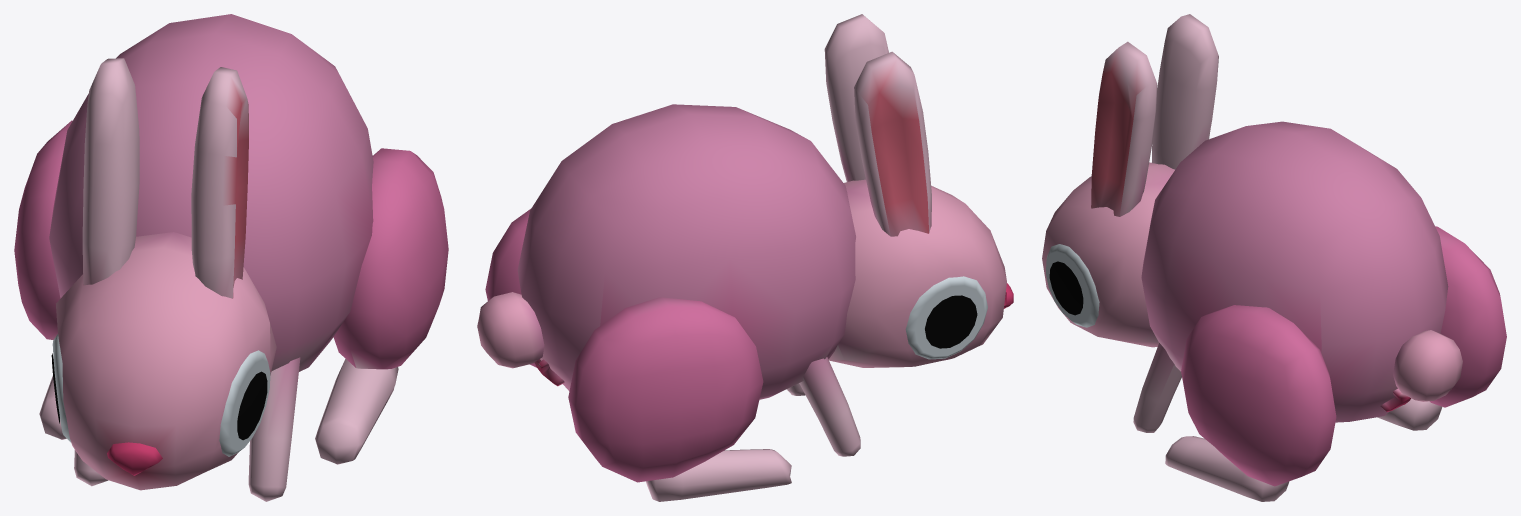
The model's file is Rabbit.glb.
The picture shows the model from 3 angles, left to right: view 1: azimuth 30°, elevation 25°; view 2: azimuth 150°, elevation 25°; view 3: azimuth 270°, elevation 25°; orthographic projection. The views are drawn at different scales.
Parts seen in each view (by area): view 1: 135; view 2: 135; view 3: 135.
Boxes of the visible parts, x1,y1,x2,y2 form: 135: [14, 14, 448, 501]; 135: [477, 14, 1013, 501]; 135: [1042, 14, 1506, 501].
Size of the model in its own units: 0.6415 by 0.5774 by 0.6664.
